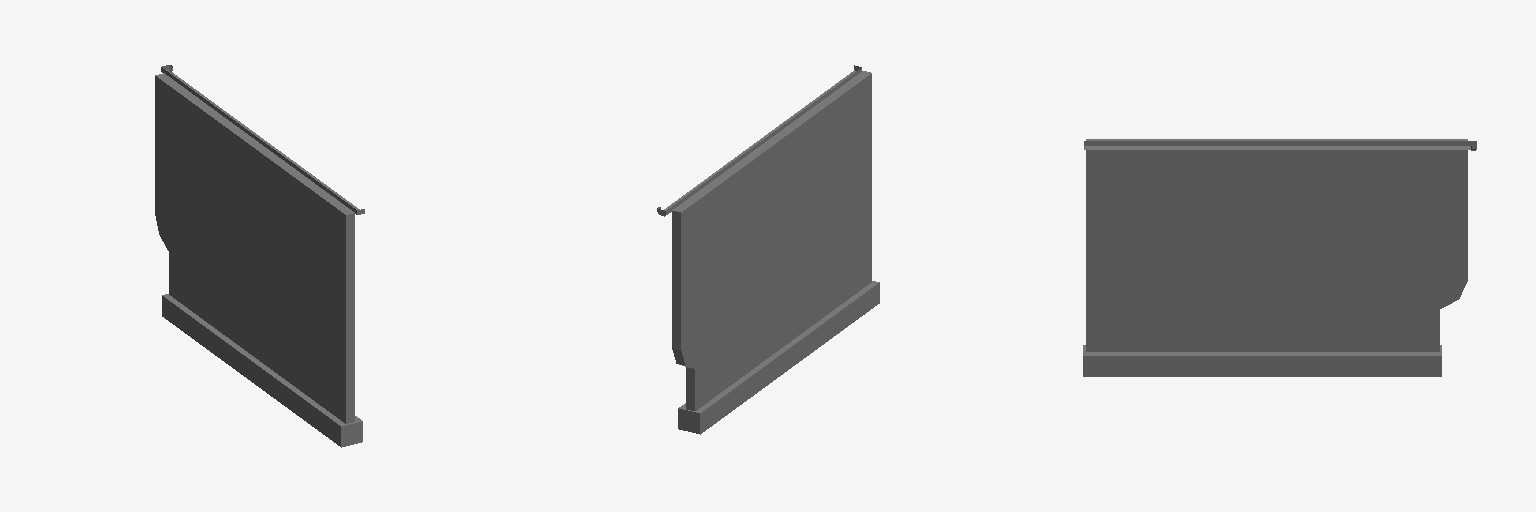
Rendered from Puerta2.obj.
3 views of the same model, side by side, from view 1: azimuth 30°, elevation 25°; view 2: azimuth 150°, elevation 25°; view 3: azimuth 270°, elevation 25° (orthographic).
Parts seen in each view (by area): view 1: Cube.000_Cube.003; view 2: Cube.000_Cube.003; view 3: Cube.000_Cube.003.
Boxes of the visible parts, x1,y1,x2,y2 form: Cube.000_Cube.003: [155, 65, 364, 447]; Cube.000_Cube.003: [657, 65, 879, 434]; Cube.000_Cube.003: [1083, 139, 1476, 376].
Bounding box in the file's own units: 0.02 × 0.1684 × 0.2585.